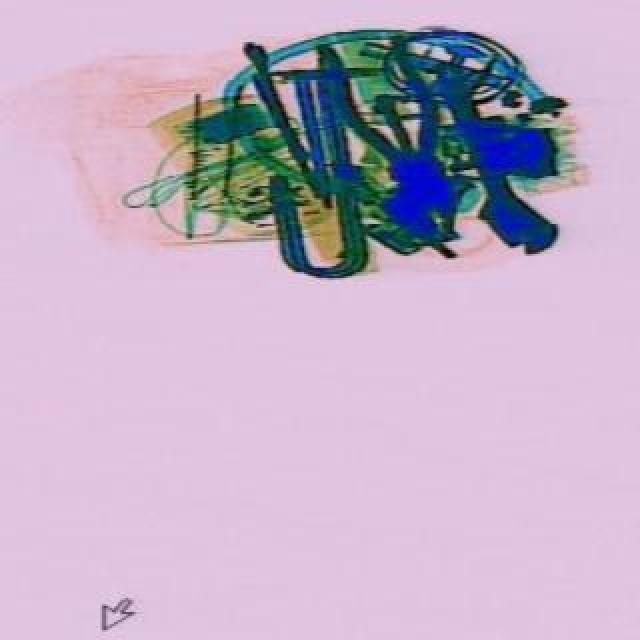scissors: (402, 52, 558, 270)
wrench: (302, 20, 484, 260)
